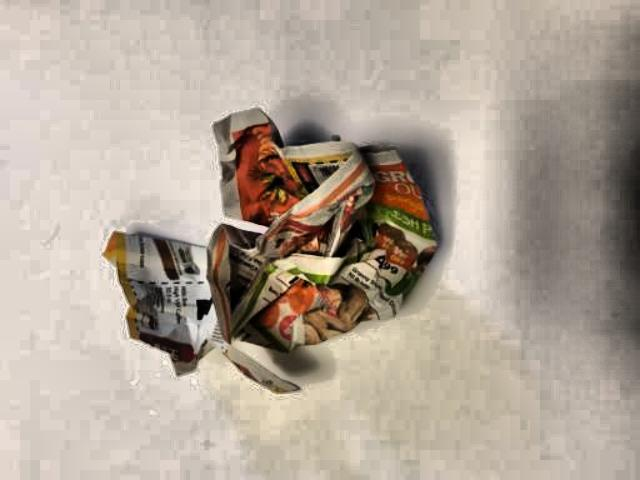Paper: (88, 107, 450, 414)
